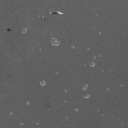corrosion: (49, 36, 61, 47), (50, 10, 64, 17), (20, 25, 28, 34), (38, 79, 47, 87), (81, 83, 89, 91), (82, 92, 90, 99), (89, 61, 96, 68), (69, 43, 76, 49), (41, 16, 48, 22), (64, 114, 70, 119), (25, 101, 30, 106), (74, 107, 79, 112), (92, 55, 97, 60), (54, 70, 59, 75), (62, 98, 67, 103), (86, 46, 90, 51), (98, 31, 102, 35)
